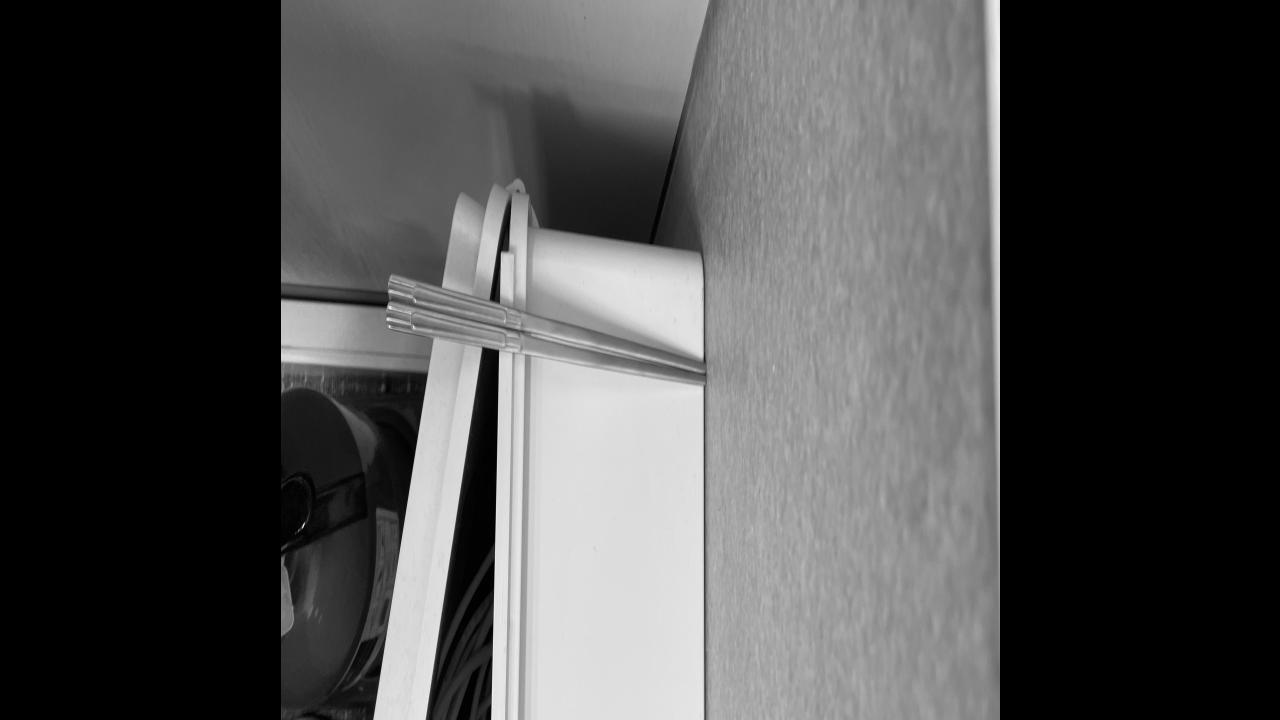chopstick: (386, 268, 704, 391)
